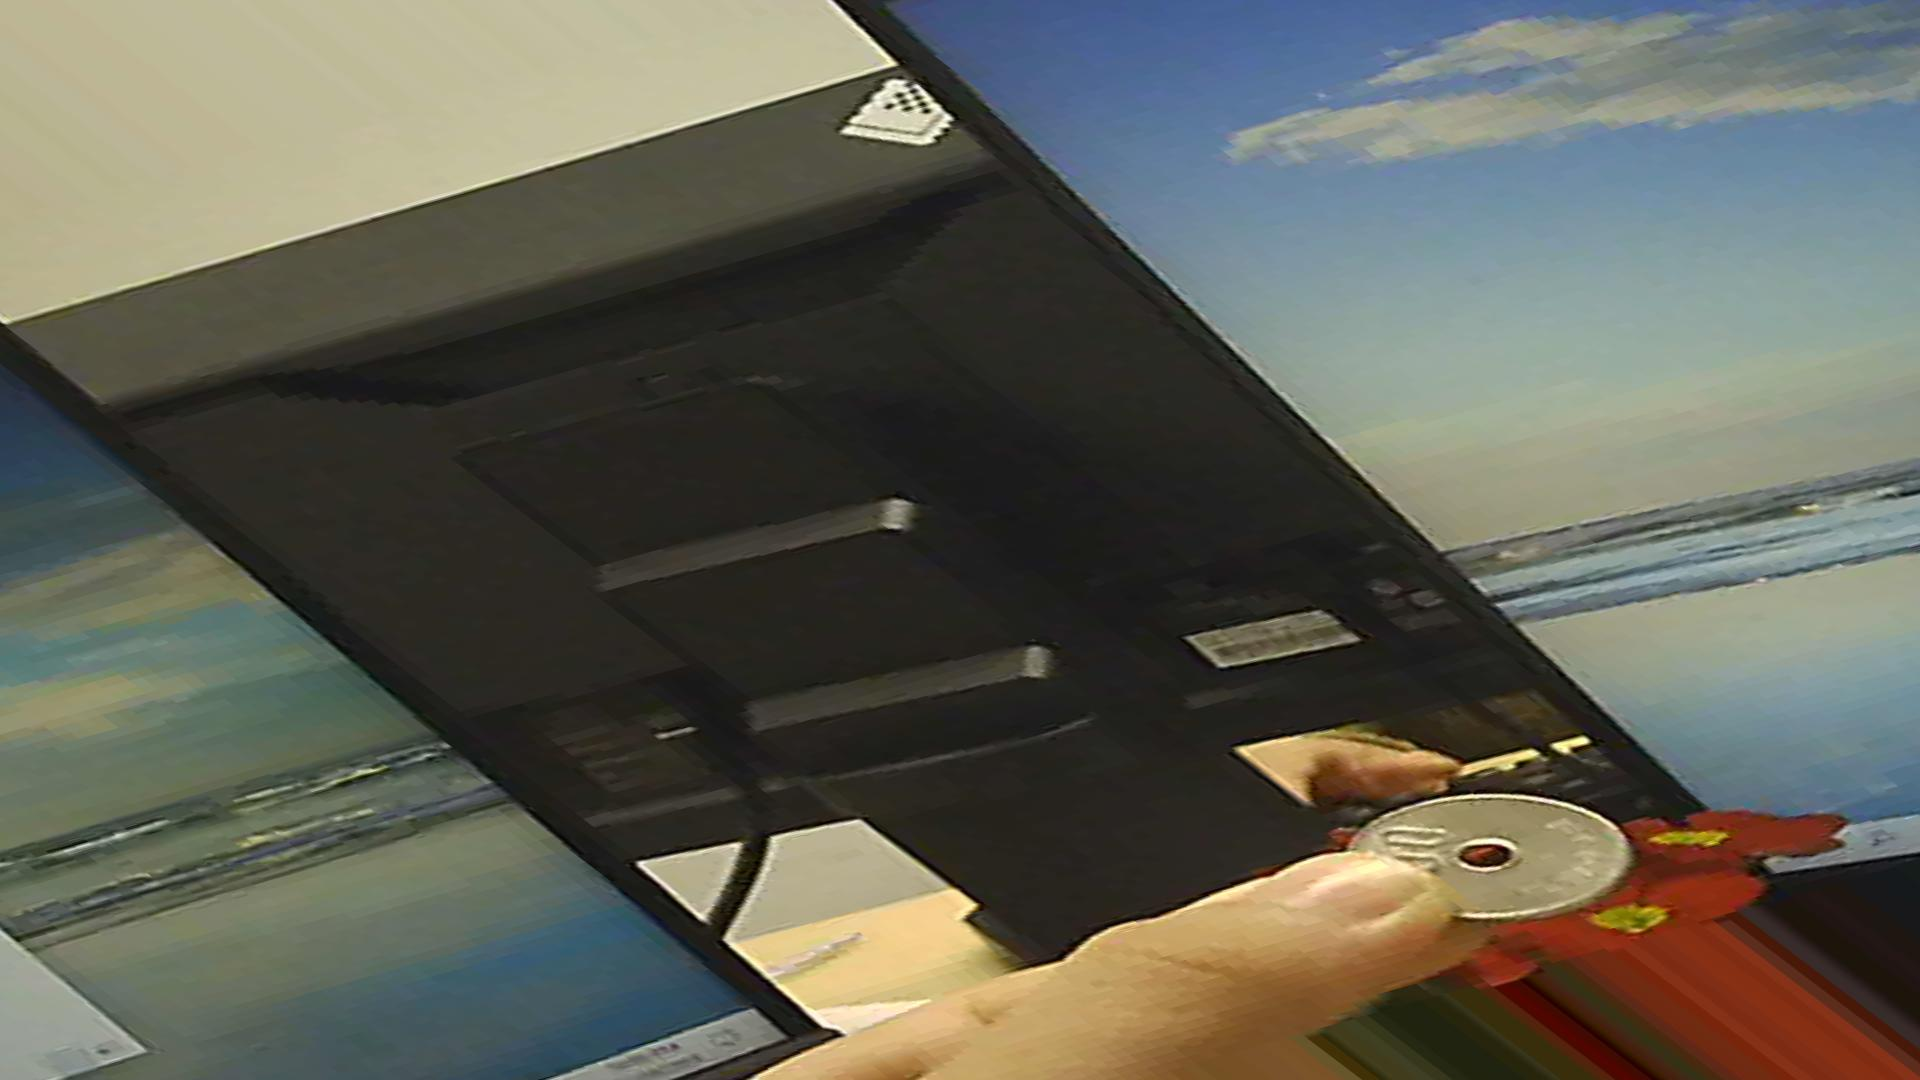50 Yen: (1345, 793, 1618, 924)
